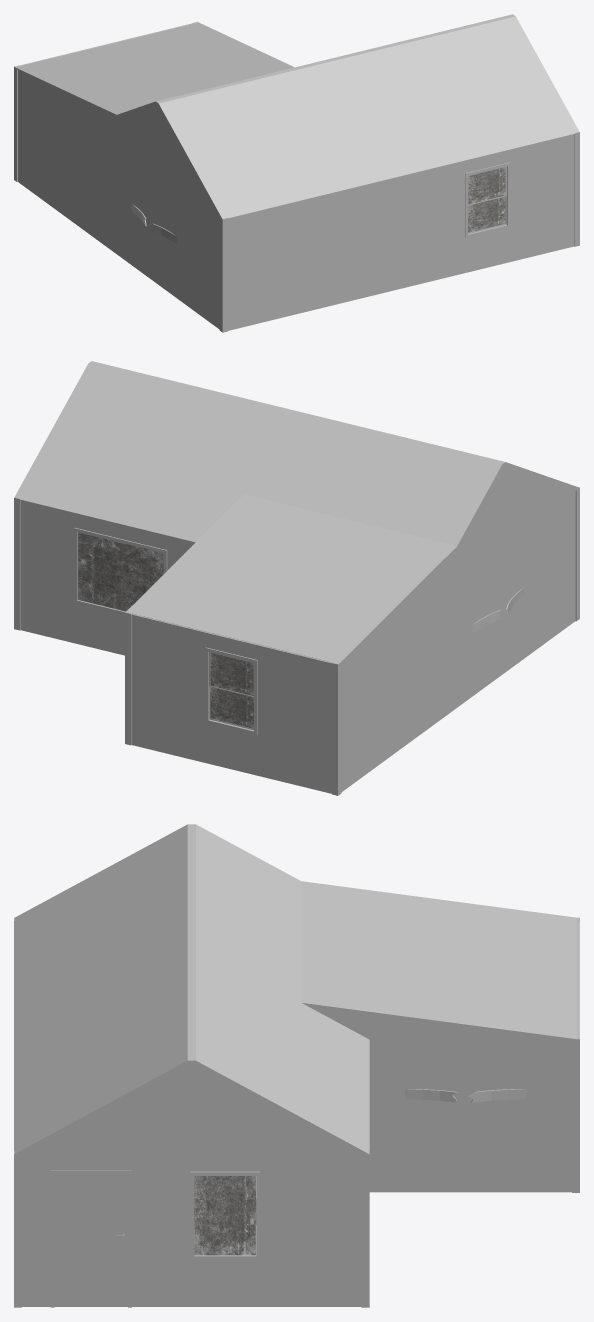
Rendered from Suburbs_house3.fbx.
3 renders of one model, top to bottom at view 1: azimuth 30°, elevation 25°; view 2: azimuth 150°, elevation 25°; view 3: azimuth 270°, elevation 25°, orthographic. The views are drawn at different scales.
Parts seen in each view (by area): view 1: Plane.018, SmallHouse1.024, Plane.556, Plane.559; view 2: Plane.018, SmallHouse1.024, Plane.549, Plane.550, Plane.553, Plane.548; view 3: Plane.018, SmallHouse1.024, Cube.019, Plane.555.
Part boxes in pixels (left/top/right/bottom): Plane.018: left=15, top=14, right=579, bottom=218; SmallHouse1.024: left=14, top=21, right=579, bottom=332; Plane.556: left=468, top=167, right=505, bottom=203; Plane.559: left=468, top=197, right=505, bottom=231; Plane.018: left=14, top=361, right=578, bottom=663; SmallHouse1.024: left=14, top=487, right=579, bottom=795; Plane.549: left=78, top=538, right=163, bottom=610; Plane.550: left=210, top=653, right=253, bottom=695; Plane.553: left=210, top=687, right=253, bottom=728; Plane.548: left=78, top=532, right=163, bottom=611; Plane.018: left=14, top=824, right=579, bottom=1154; SmallHouse1.024: left=14, top=917, right=579, bottom=1307; Cube.019: left=54, top=1174, right=127, bottom=1305; Plane.555: left=194, top=1176, right=255, bottom=1255.
Bounding box in the file's own units: 839 × 402 × 834.
